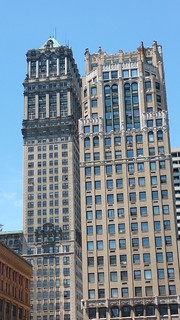low: (18, 35, 86, 320)
medium: (79, 41, 180, 320)
